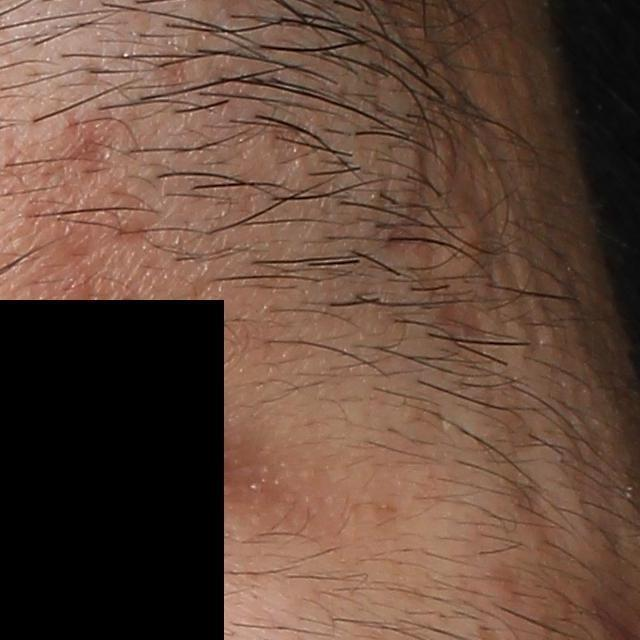atrophic_scar: (391, 148, 489, 348), (62, 120, 115, 175)
hypertrophic_scar: (447, 205, 491, 271)
